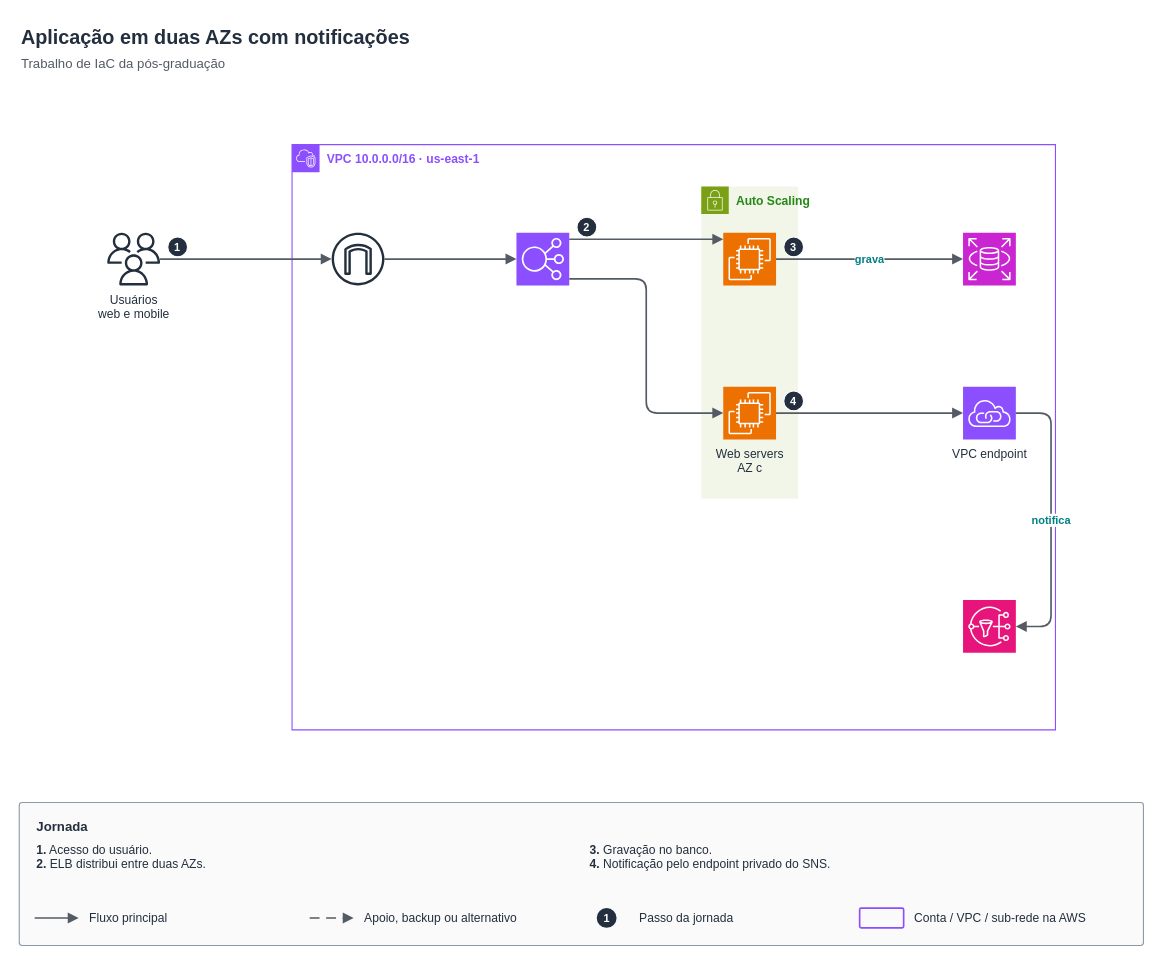
Some shapes in this 1163 by 965 pixel diagram are drawn without their labels. The shapes that lost their labels are listed below. From the top down, each one's centre as x and y in pixels, then its label:
pixel 357 258: Internet Gateway
pixel 542 258: ELB
pixel 749 258: Web servers AZ a
pixel 989 258: RDS sync
pixel 989 626: SNS
